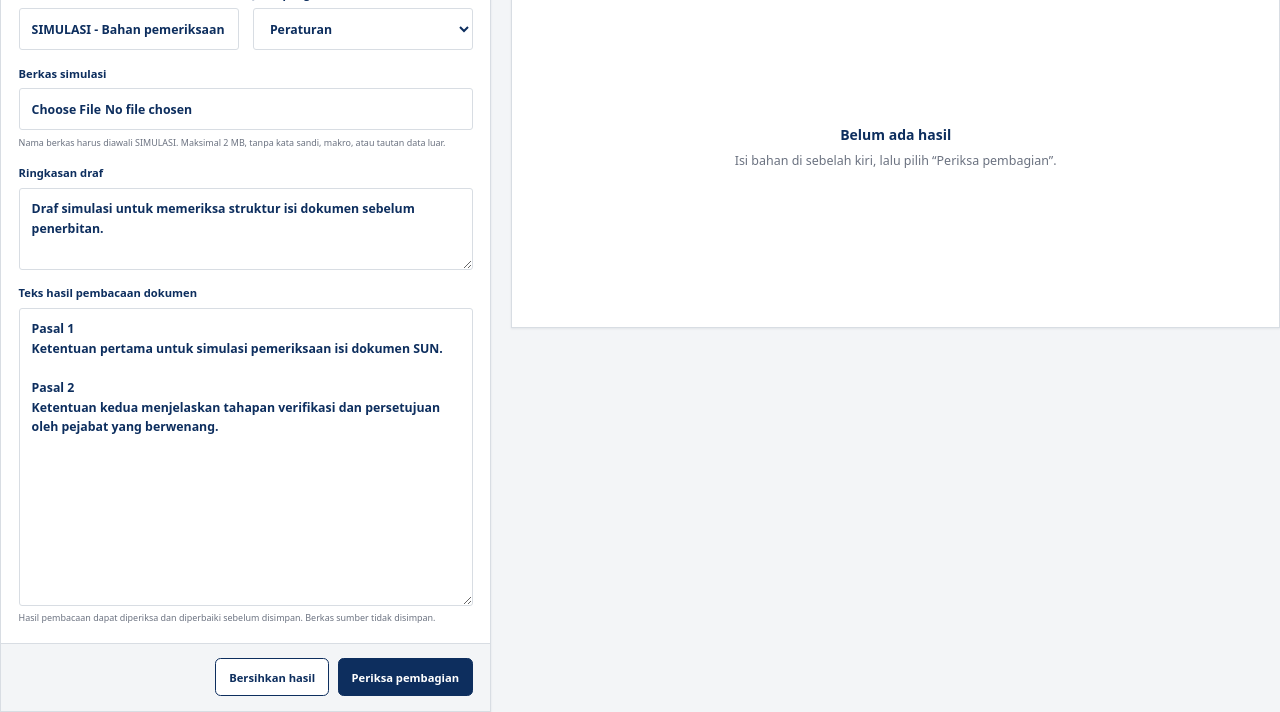
ChunkPreviewWorkbench › menampilkan pesan kegagalan dari layanan
(page scrolled)
Step 1. Click the button "Periksa pembagian" → (405, 677), box x1=338 y1=658 x2=473 y2=696
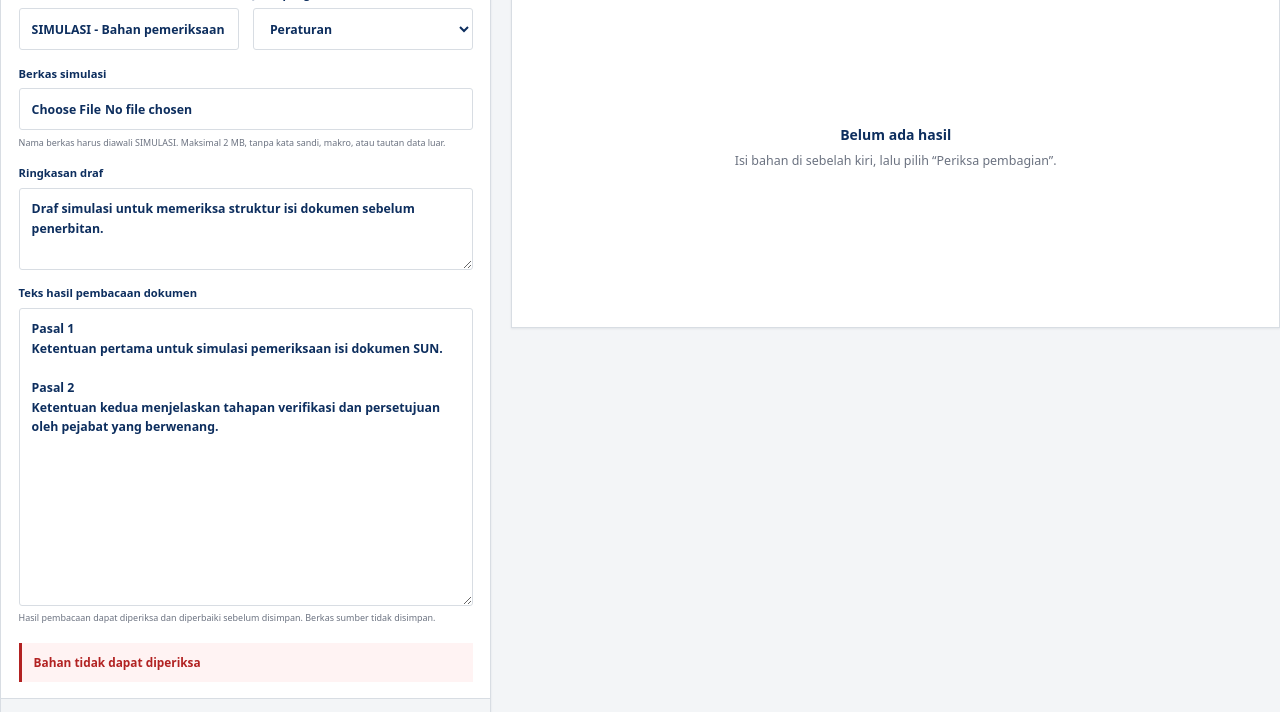
Check: the message reads "Bahan tidak dapat diperiksa", box x1=34 y1=654 x2=201 y2=670
